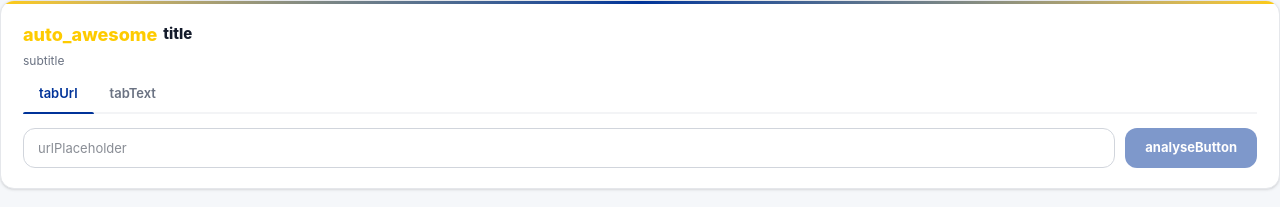
QuickTailorWidget › Analyse button enables when URL is typed
Type "https://example.de/job/123" into the field with placeholder "urlPlaceholder" at (569, 148), box [23,128,1115,168]
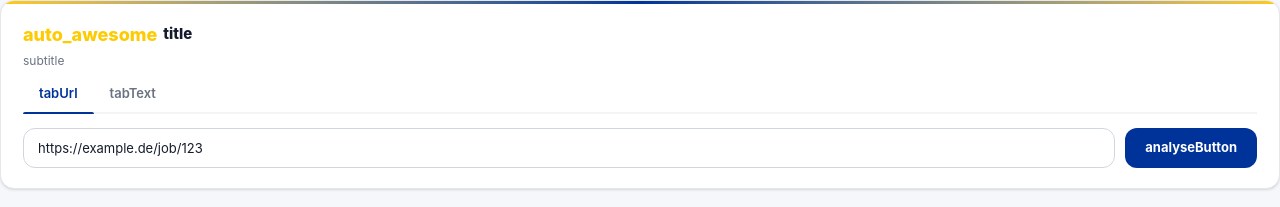
Result: the button "analyseButton" is enabled at [1125,128,1257,168]
